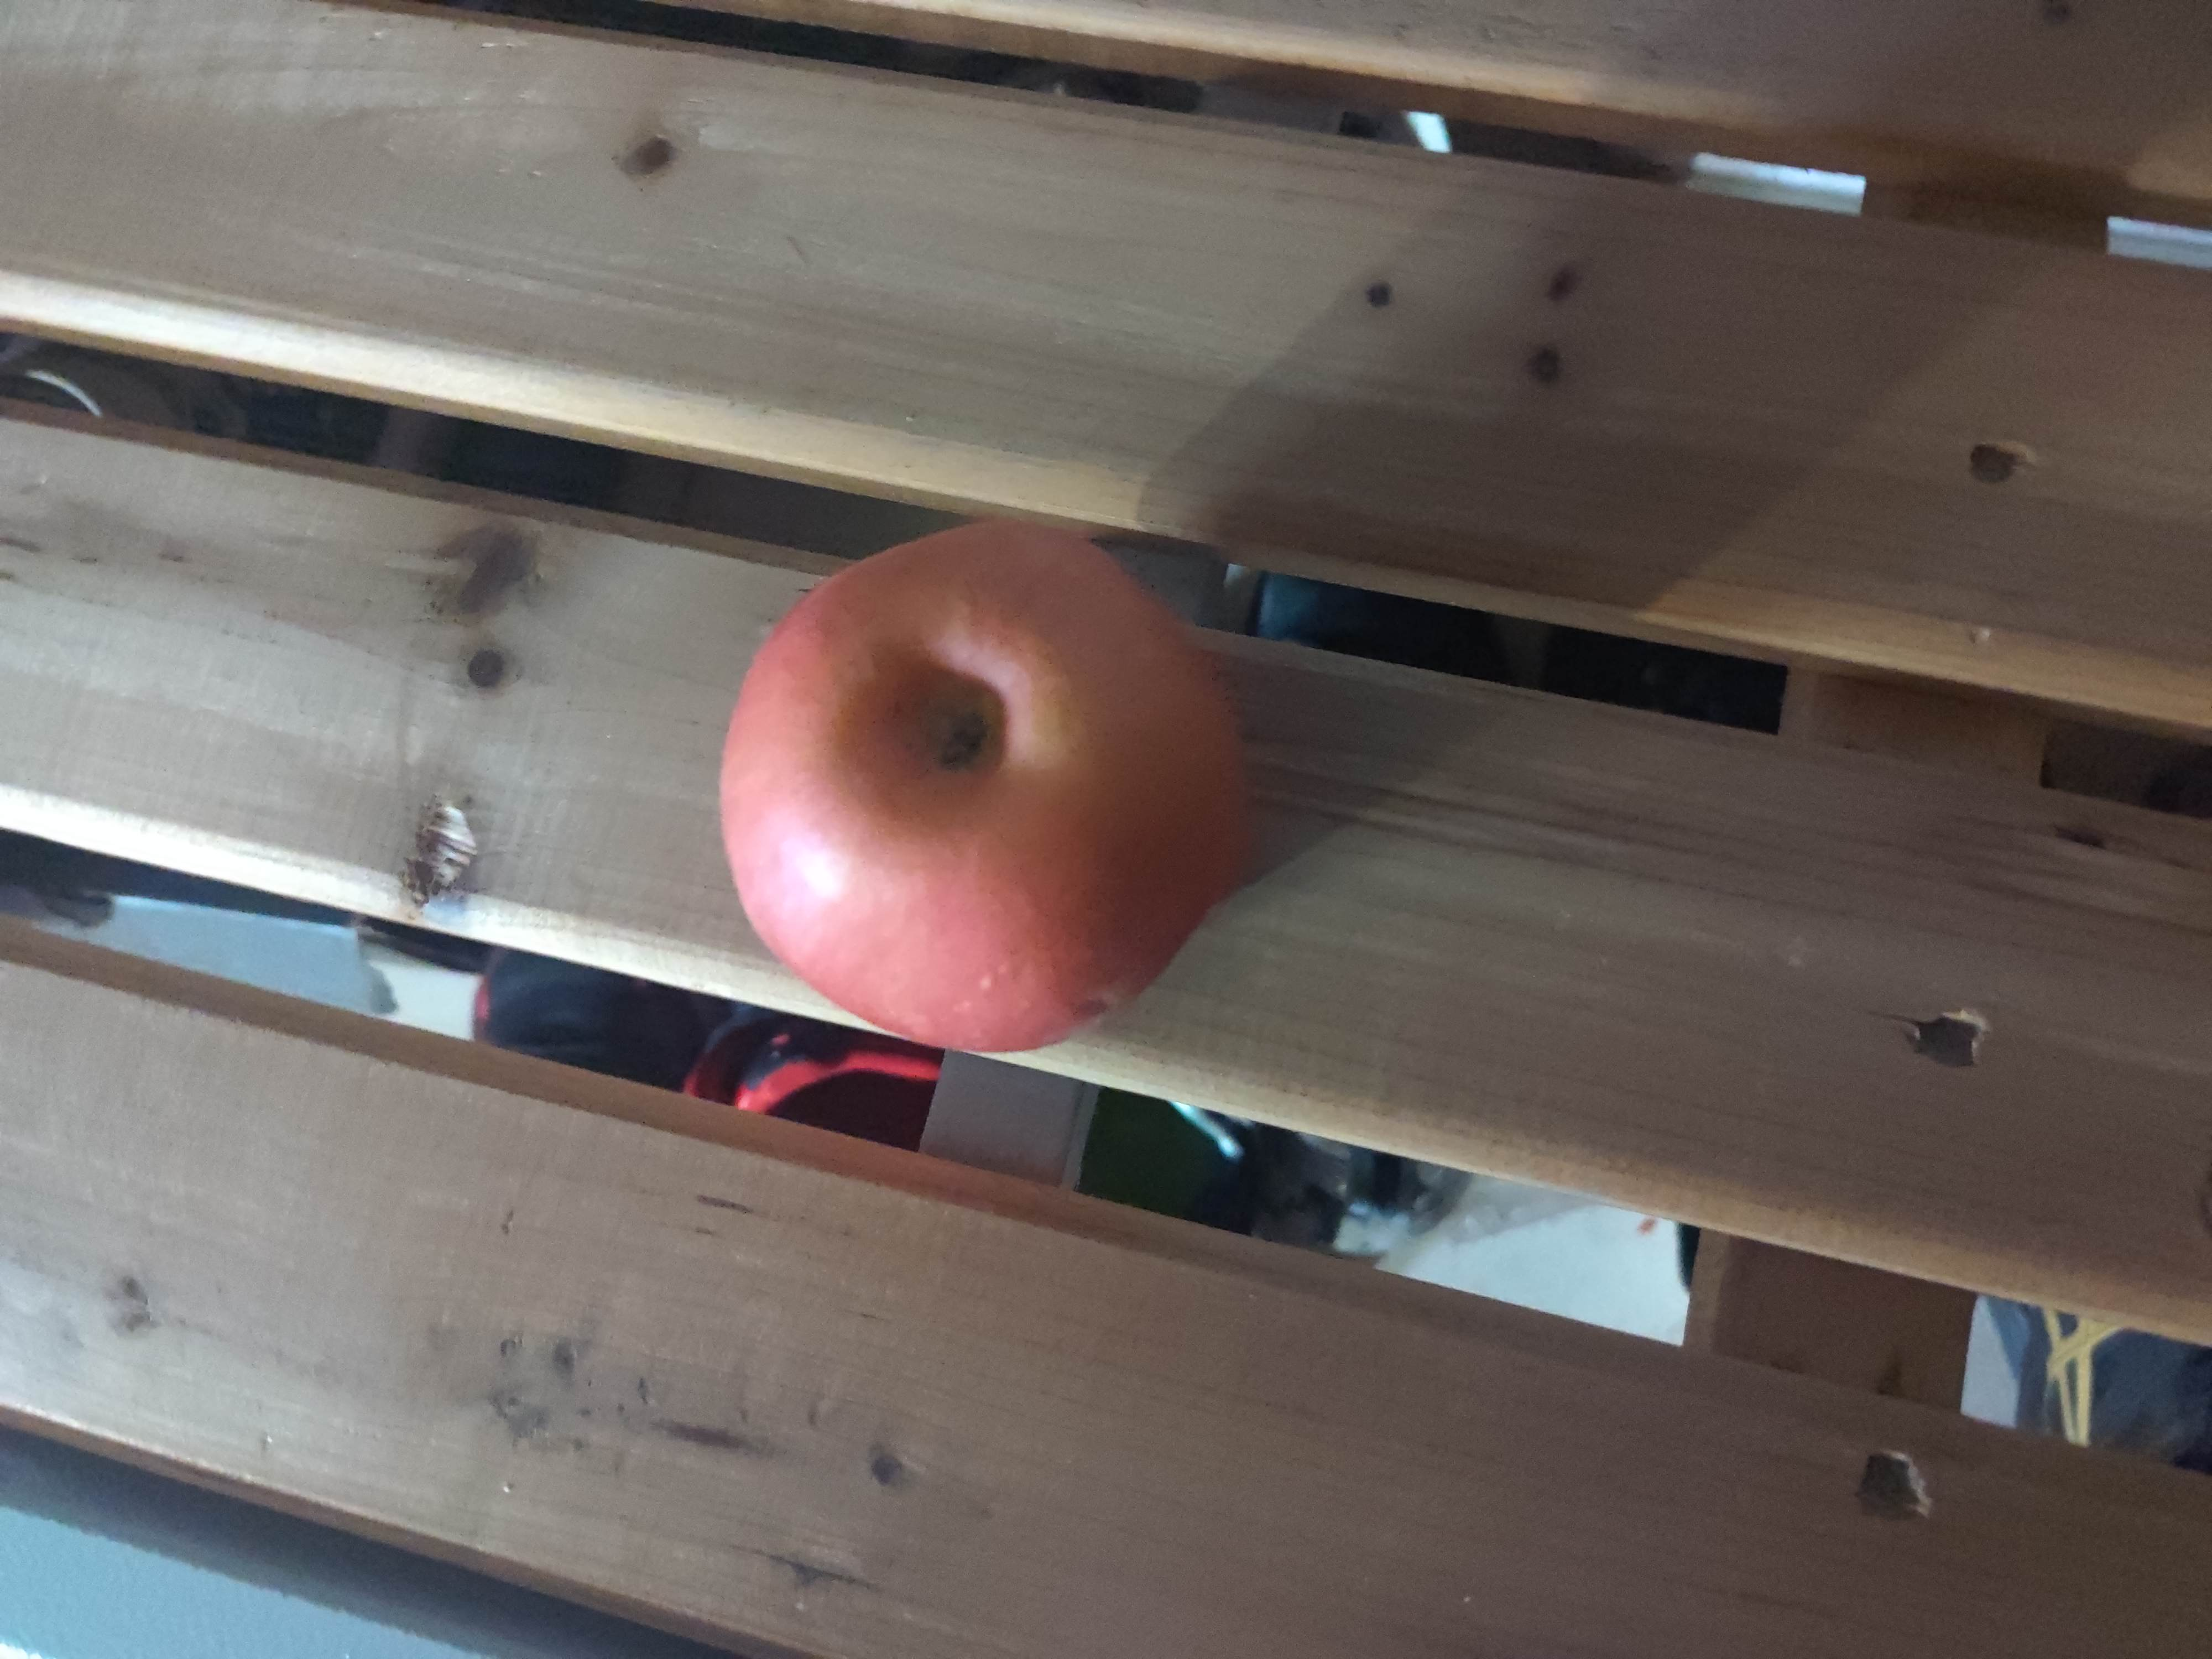apple: (716, 516, 1245, 1054)
